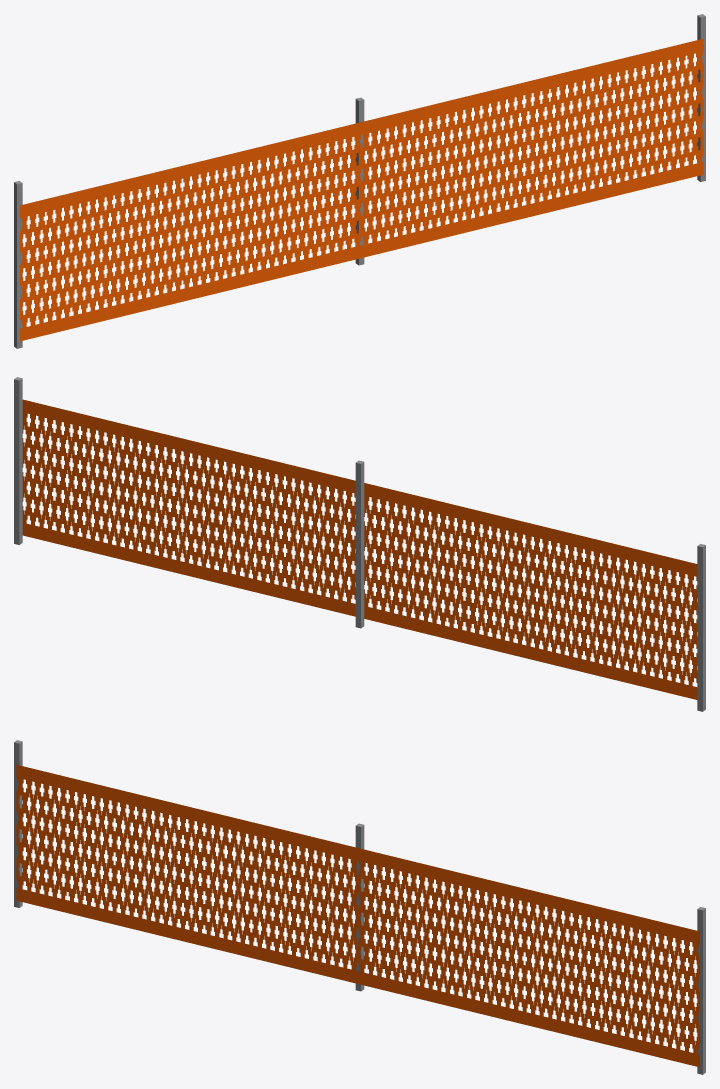
The model's file is fence_orange.dae.
The picture shows the model from 3 angles, top to bottom: view 1: azimuth 30°, elevation 25°; view 2: azimuth 150°, elevation 25°; view 3: azimuth 330°, elevation 25°; orthographic projection.
Parts seen in each view (by area): view 1: marker; view 2: marker; view 3: marker.
Part boxes in pixels (left/top/right/bottom): marker: left=14, top=14, right=705, bottom=348; marker: left=14, top=377, right=705, bottom=711; marker: left=14, top=740, right=705, bottom=1074.
Bounding box in the file's own units: 5.04 × 0.045 × 1.15.
Materials: 1 (1 with a texture image).
